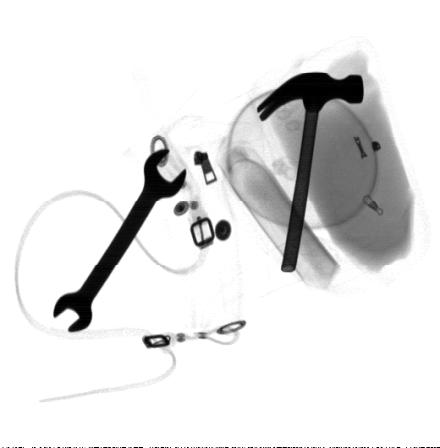Hammer: (256, 73, 364, 273)
Wrench: (54, 148, 186, 333)
